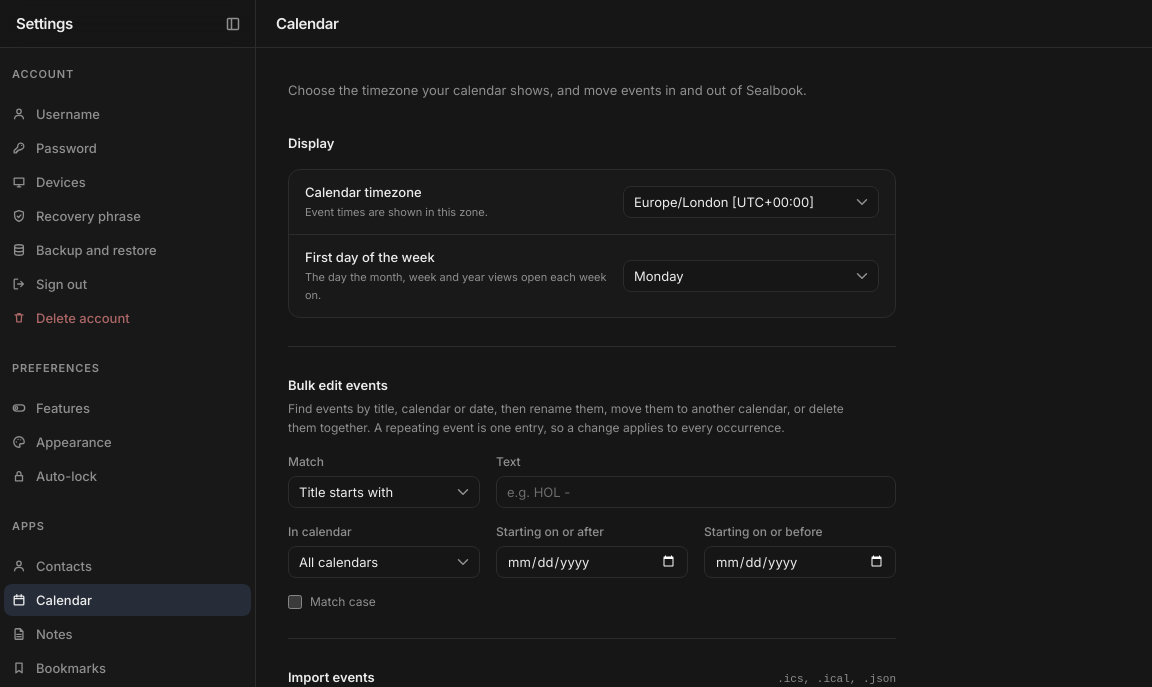
Test: Bulk edit events › lists only readable matches
The image size is (1152, 687).
Type "hol -" into the field labelled "Text" at (696, 492), box [496,476,896,508]
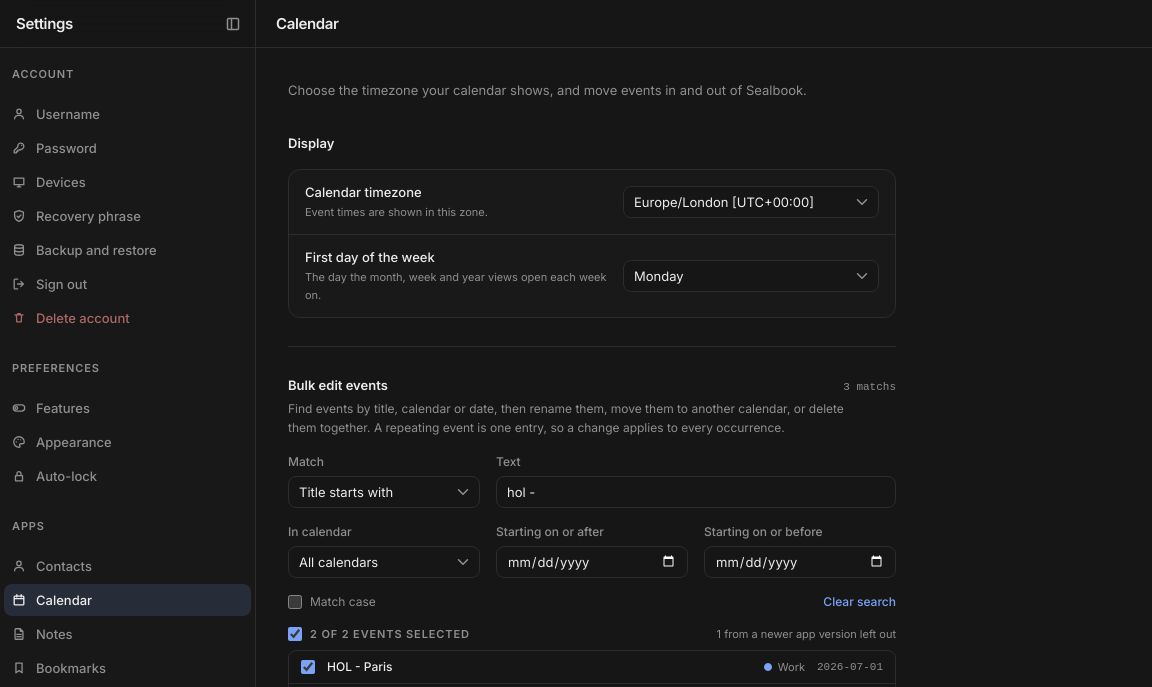
Check: the list named "Matching events" shows "Paris", box [327,659,393,674]
Check: the text "1 from a newer app version left out" is shown, box [716,626,896,642]
